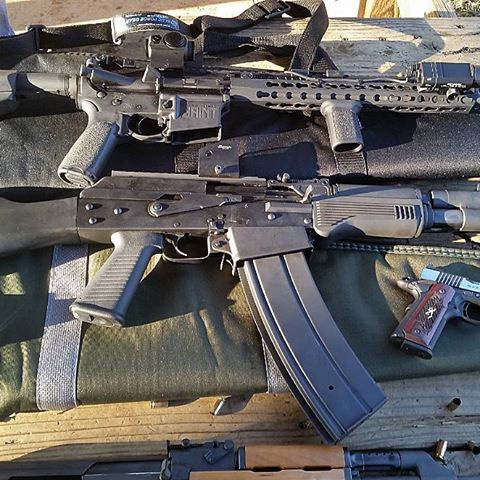ak47: (1, 179, 477, 439), (4, 34, 475, 177)
